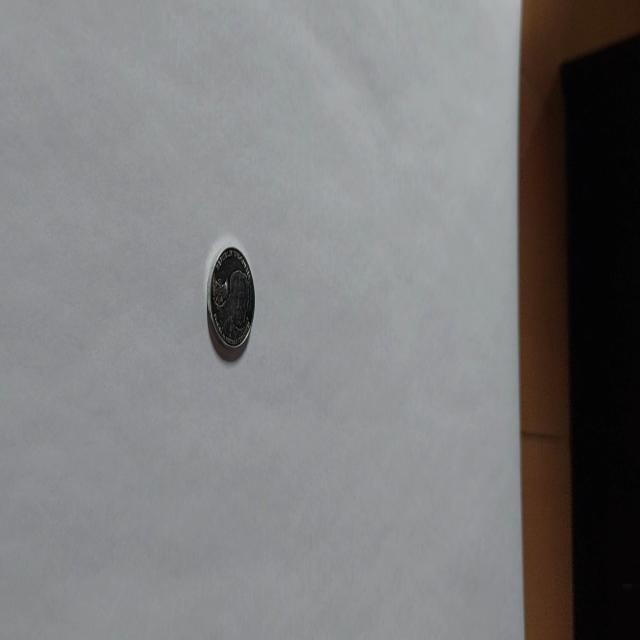seratus rupiah: (206, 244, 256, 360)
